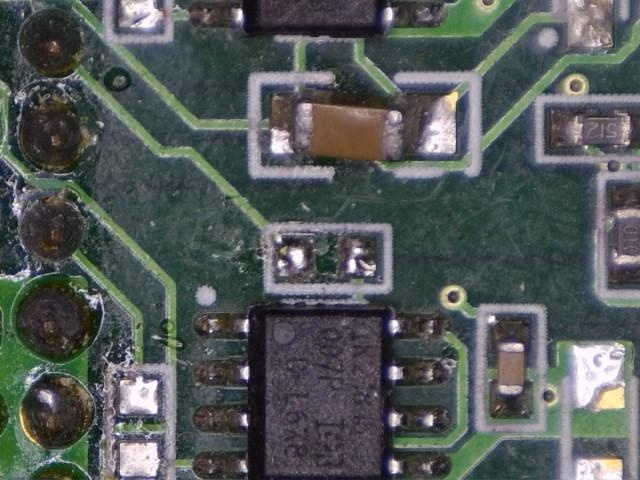pcb_defect: (270, 90, 459, 161)
